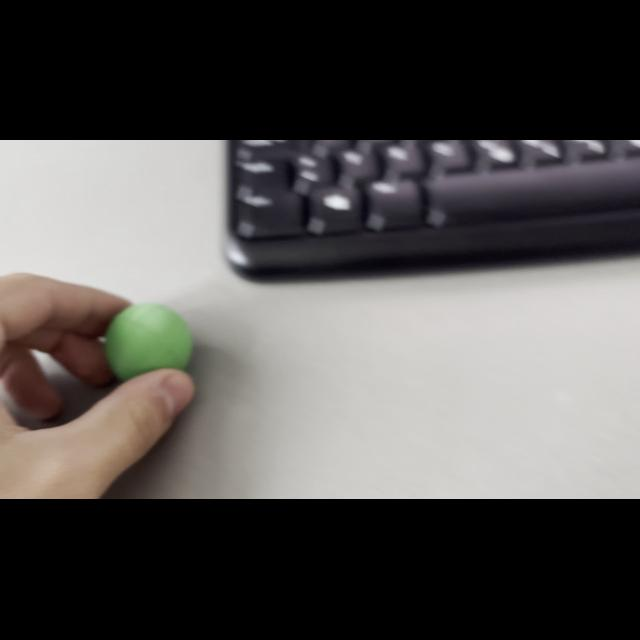objects: (100, 298, 200, 384)
